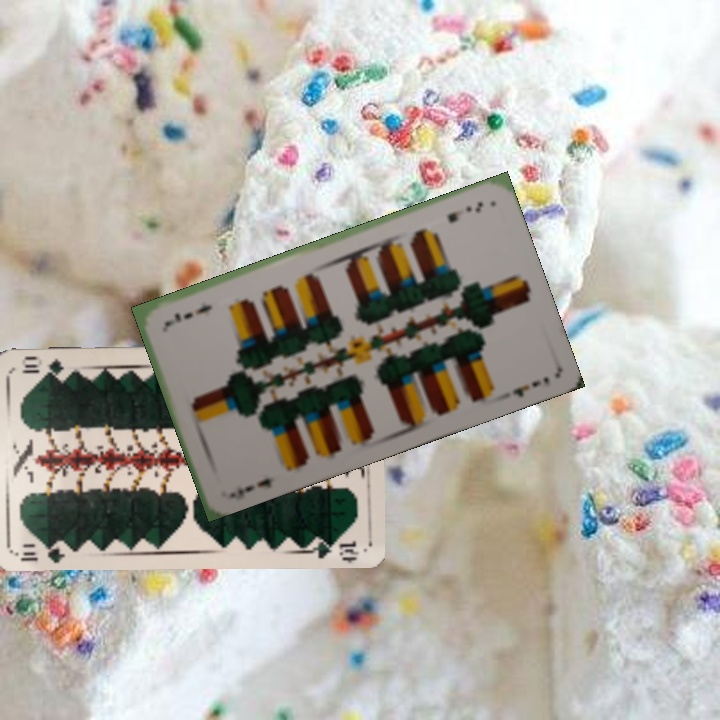E7: (225, 474, 274, 503), (443, 197, 486, 226)
G10: (12, 537, 71, 564)
